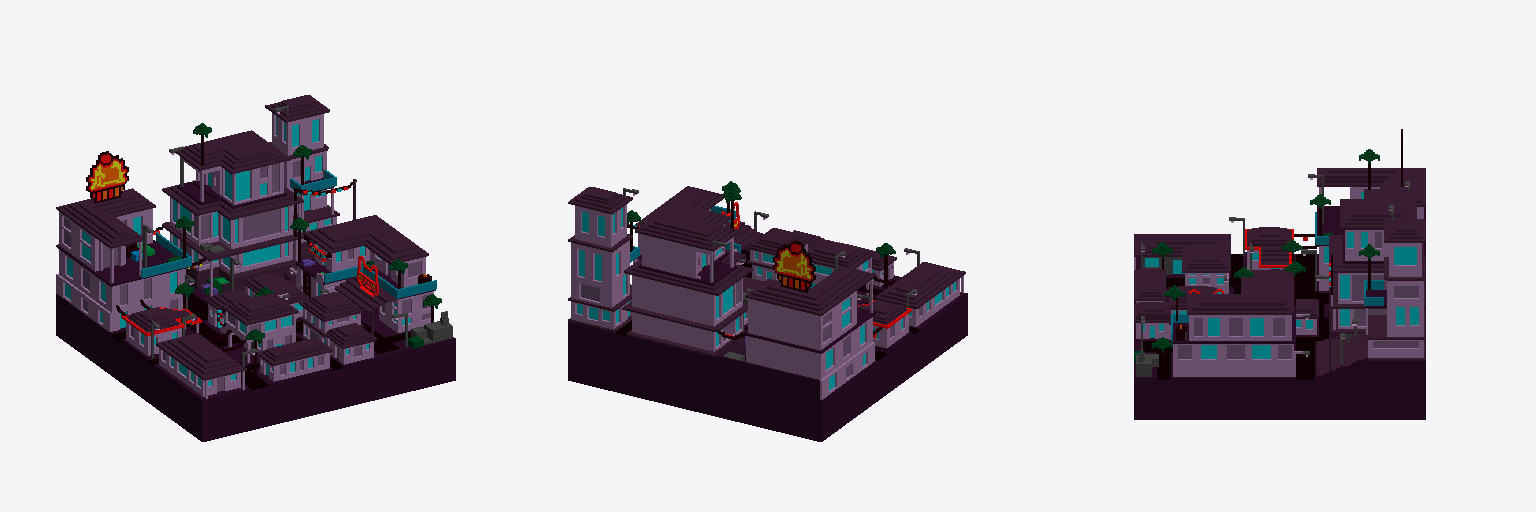
3 views of the same model, side by side, from view 1: azimuth 30°, elevation 25°; view 2: azimuth 150°, elevation 25°; view 3: azimuth 270°, elevation 25° (orthographic).
Visible parts, largest first — view 1: minitown; view 2: minitown; view 3: minitown.
Boxes of the visible parts, box(x1,y1,x2,y2) form: minitown: box(56, 95, 455, 441); minitown: box(568, 181, 967, 441); minitown: box(1134, 129, 1425, 419).
Bounding box in the file's own units: 126 × 97 × 126.
1 materials, 1 textured.